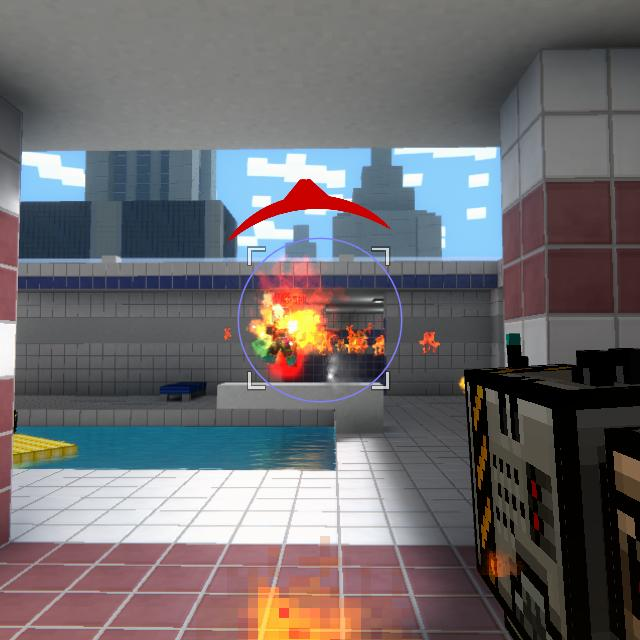Enemy: (262, 307, 297, 367)
